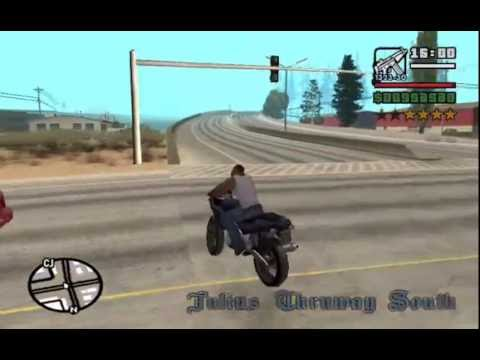bike: (196, 181, 300, 286)
